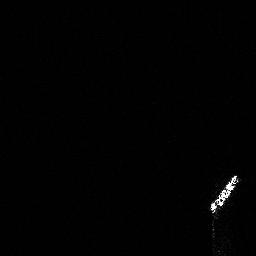ship: (207, 172, 240, 216)
